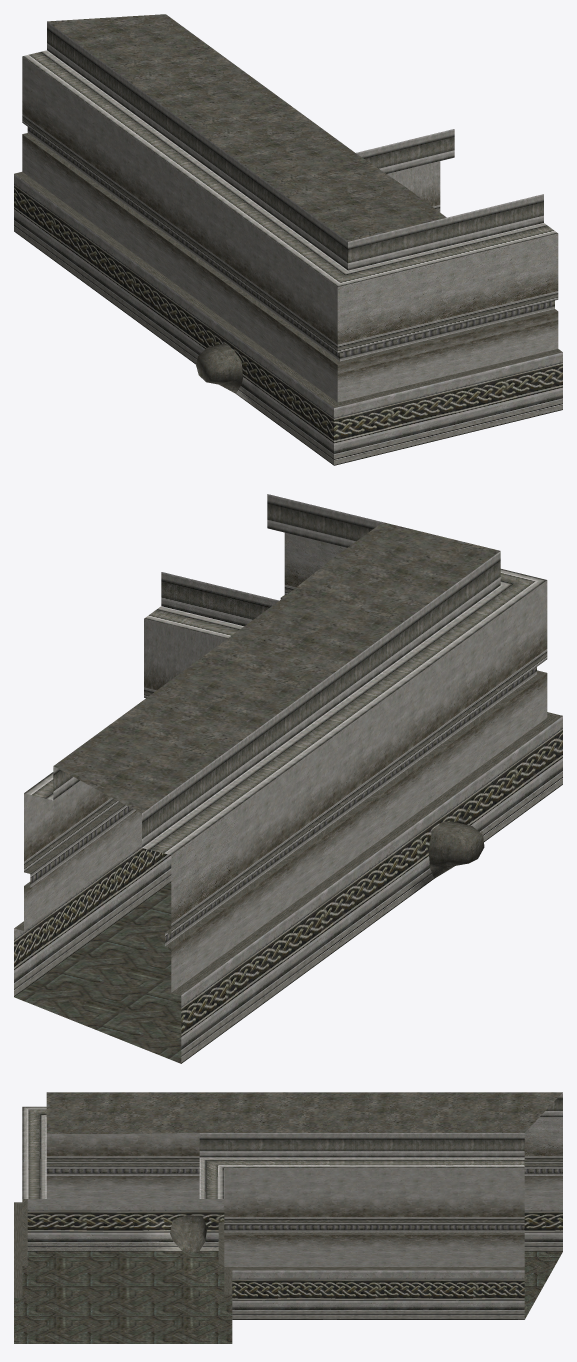
File: DWARF_PALACE_GEAR_ROOM_HALLWAYB.fbx
3 renders of one model, top to bottom at view 1: azimuth 30°, elevation 25°; view 2: azimuth 150°, elevation 25°; view 3: azimuth 270°, elevation 25°, orthographic. The views are drawn at different scales.
Parts seen in each view (by area): view 1: DWARF_PALACE_GEAR_ROOM_HALLWAYB; view 2: DWARF_PALACE_GEAR_ROOM_HALLWAYB; view 3: DWARF_PALACE_GEAR_ROOM_HALLWAYB.
Part boxes in pixels (x1,y1,x2,y2): DWARF_PALACE_GEAR_ROOM_HALLWAYB: (14, 14, 562, 465); DWARF_PALACE_GEAR_ROOM_HALLWAYB: (14, 494, 562, 1063); DWARF_PALACE_GEAR_ROOM_HALLWAYB: (14, 1092, 562, 1343).
Bounding box in the file's own units: 93288 × 70000 × 201134.
Materials: 7 (7 with a texture image).
